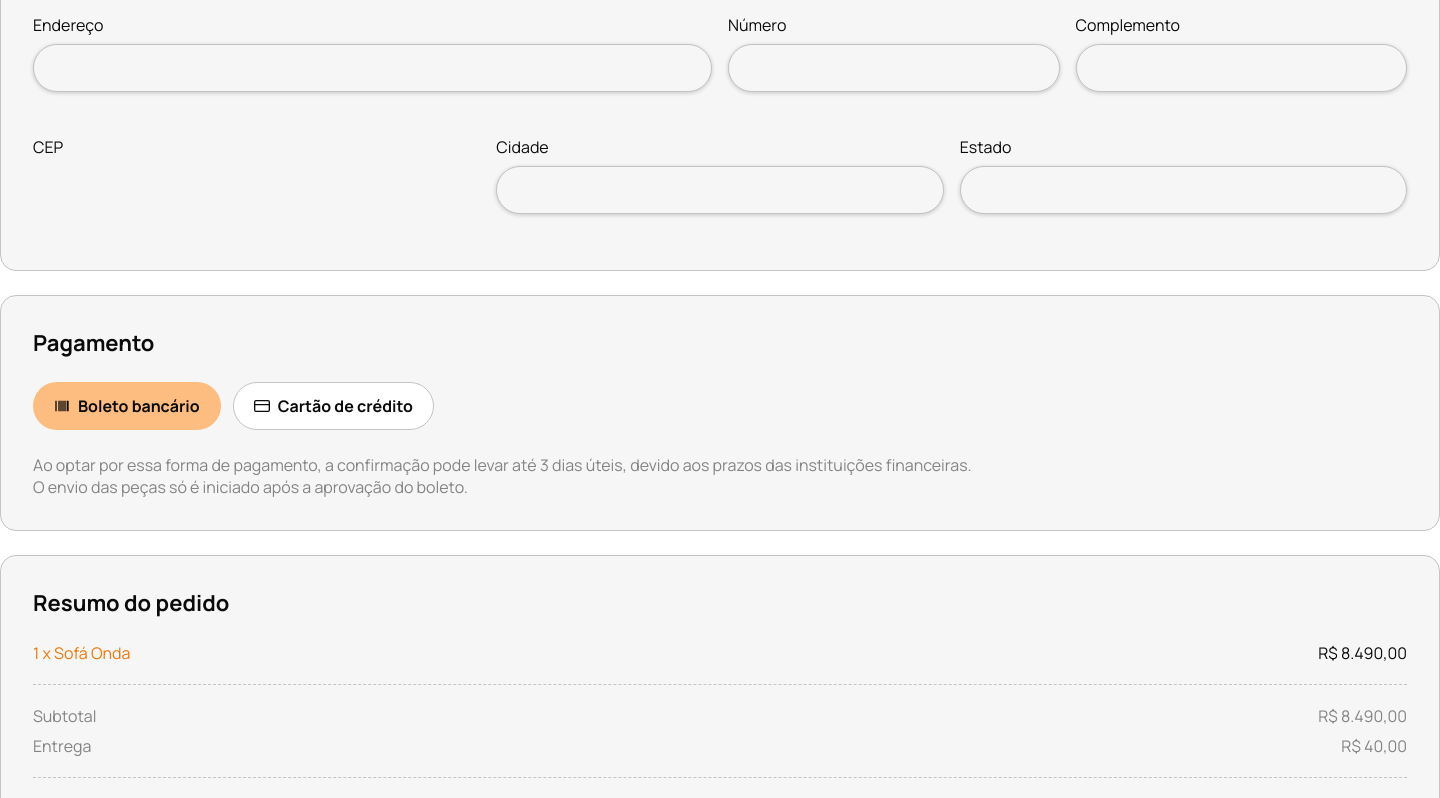
Scenario: Checkout › deve exigir a seleção de parcelamento quando o pagamento é cartão
The image size is (1440, 798).
(page scrolled)
// Seleciona cartão de crédito
Click the button "Cartão de crédito" at (333, 406), box [233,382,434,430]
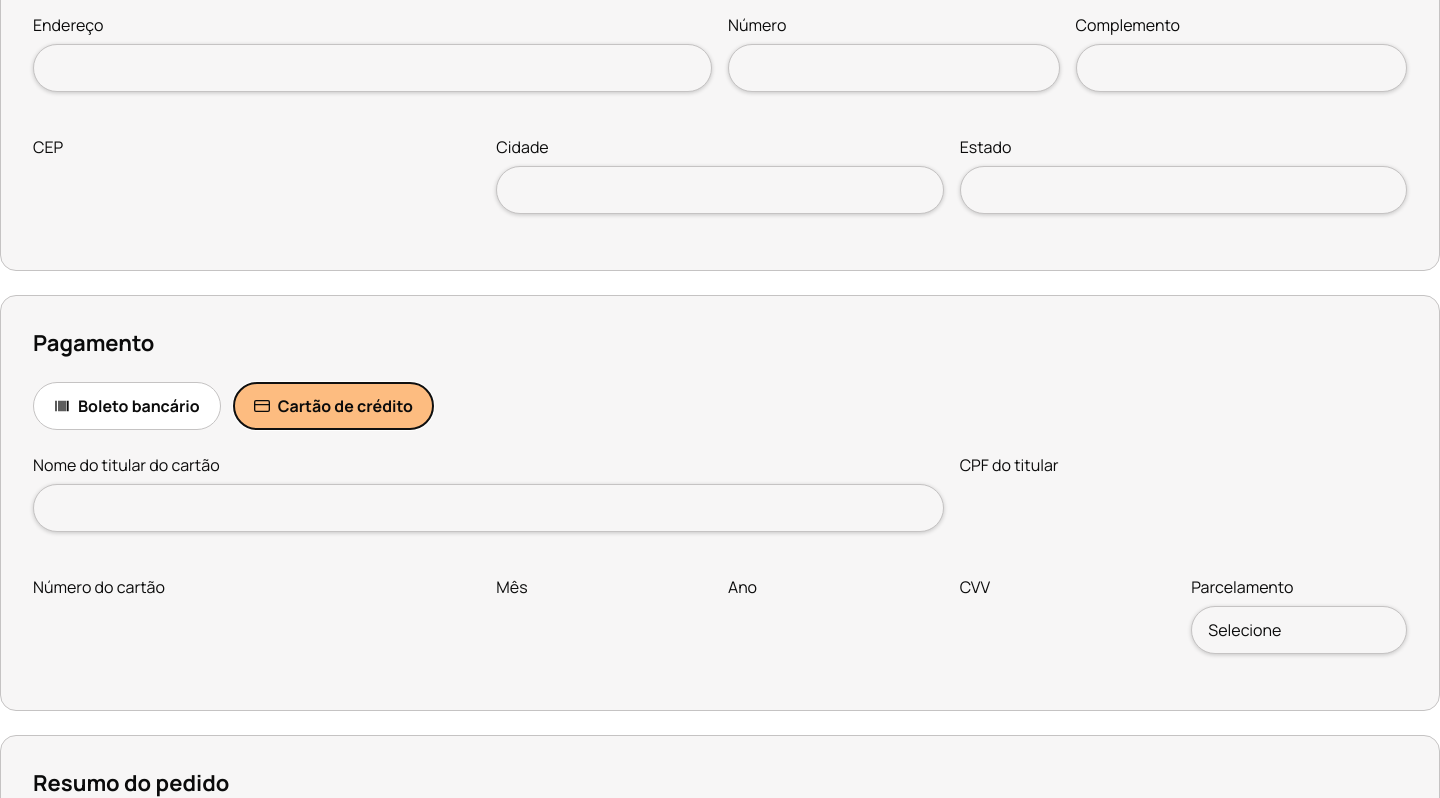
// Foca no campo
Click the dropdown labelled "Parcelamento" at (1299, 630), box [1191,606,1407,654]
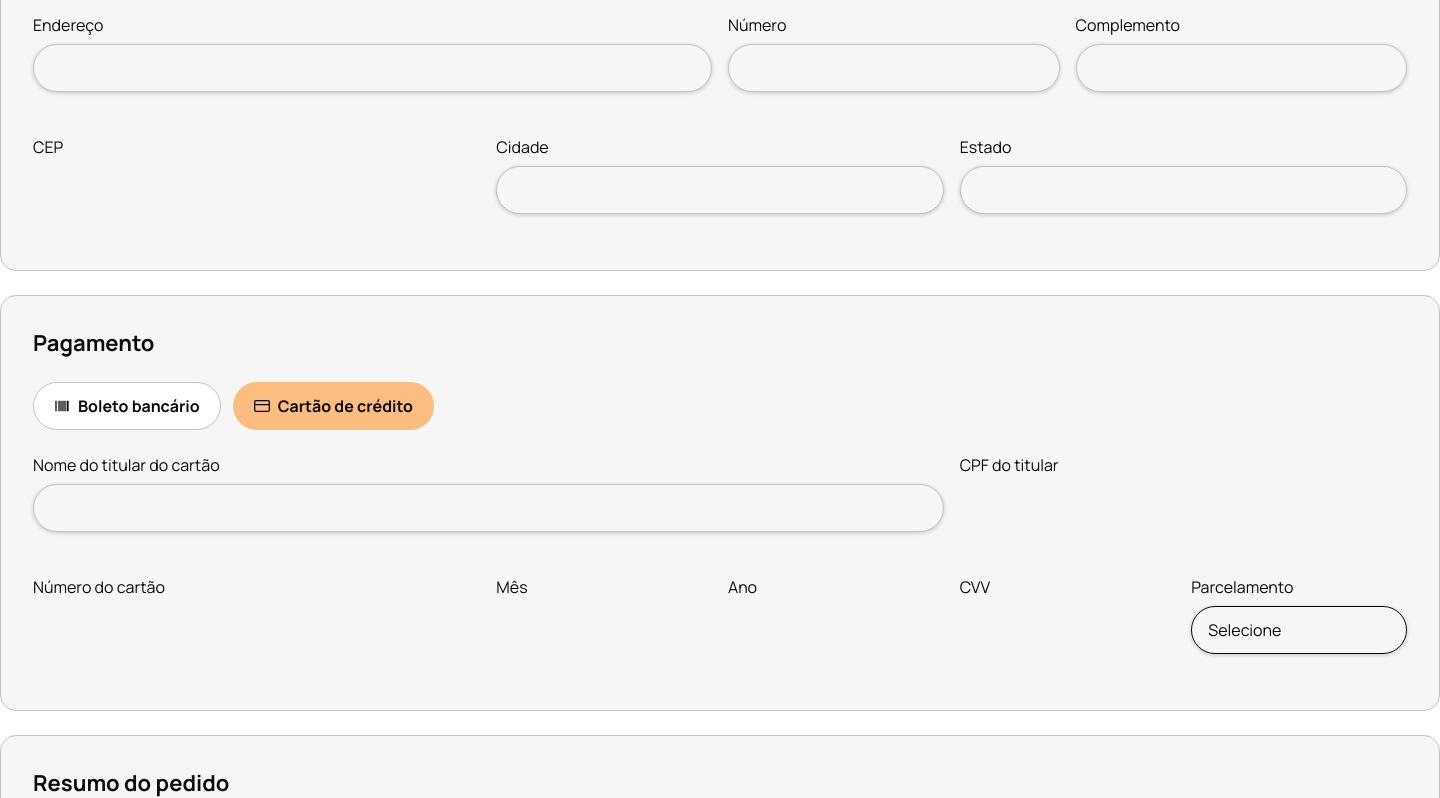
// Sai sem selecionar uma opção
Press Tab
(page scrolled)
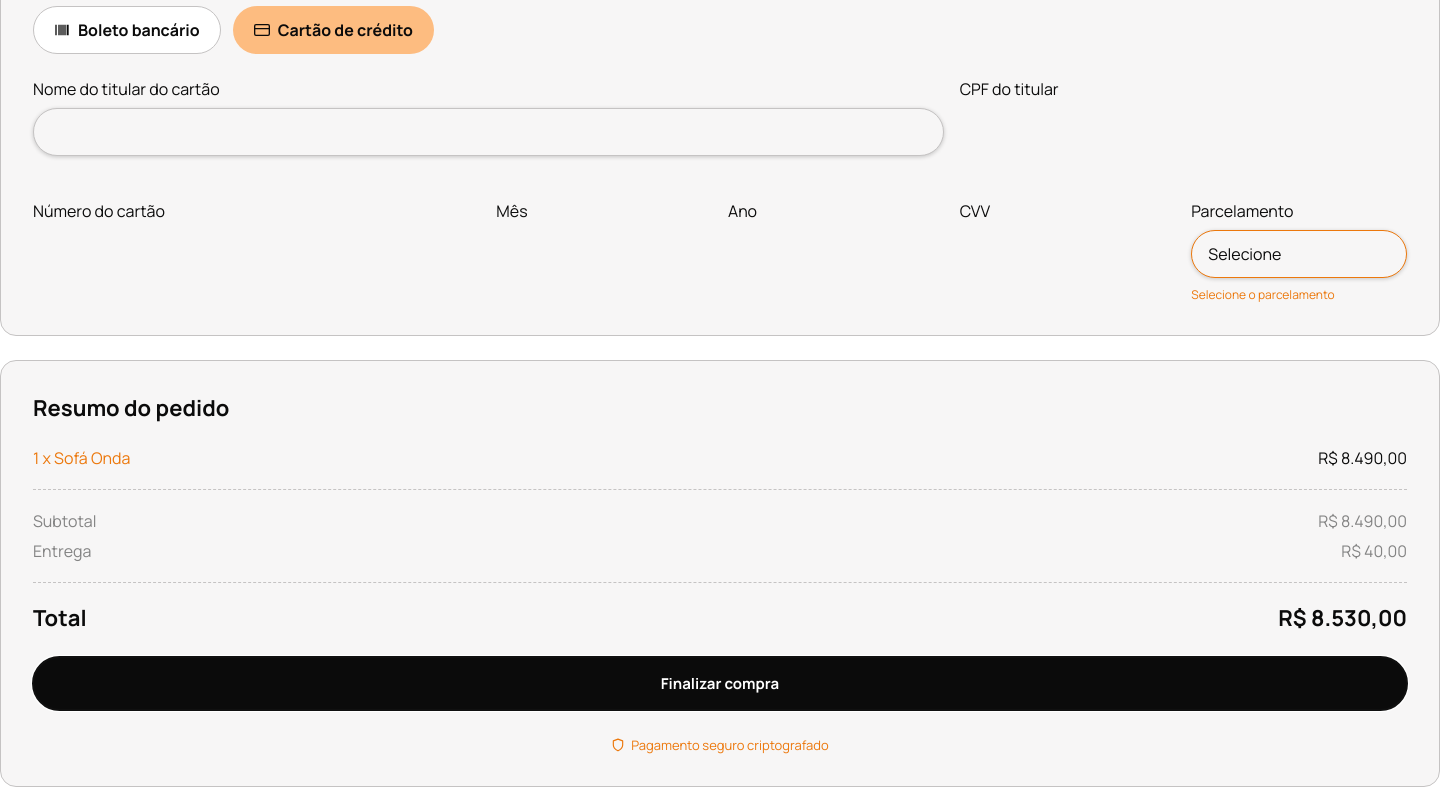
Now the text "Selecione o parcelamento" is shown, box [1191,286,1335,303]
